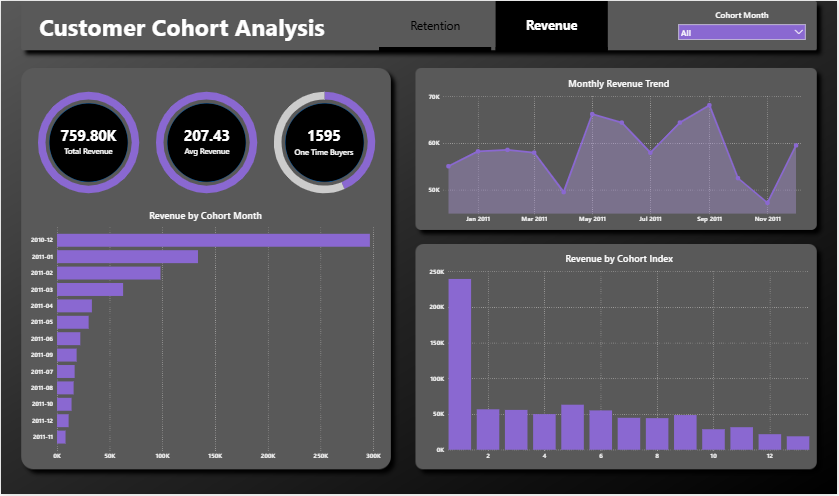

What the dashboard file says about the page in this screenshot:
{"tool":"powerbi","page":{"name":"Revenue","canvas":[1900,1120],"ordinal":1},"visuals":[{"type":"pageNavigator","box":[859.5,0,521.4,112],"z":0,"group":"g1"},{"type":"shape","box":[108,231,180,180],"z":0},{"type":"pageNavigator","box":[859.5,104.8,521.4,11.9],"z":1000,"group":"g1"},{"type":"shape","box":[377,232,180,180],"z":1000},{"type":"shape","box":[645,231,180,180],"z":2000},{"type":"donutChart","title":"Repeat vs One-Time Customers","fields":{"Y":["cohort_index_table.Total Revenue"]},"box":[19.5,172.6,357.1,298],"z":3000},{"type":"donutChart","title":"Repeat vs One-Time Customers","fields":{"Y":["cohort_index_table.Avg Revenue per Customer"]},"box":[287.5,172.6,357.1,298],"z":4000},{"type":"donutChart","title":"Repeat vs One-Time Customers","fields":{"Y":["cohort_index_table.One Time Customers","cohort_index_table.Repeat Customers"]},"box":[556.5,172.6,357.1,298],"z":5000},{"type":"card","fields":{"Values":["cohort_index_table.Total Revenue"]},"box":[108.8,259,178.6,114.3],"z":6000},{"type":"card","fields":{"Values":["cohort_index_table.Avg Revenue per Customer"]},"box":[377.8,259,181,114.3],"z":7000},{"type":"card","fields":{"Values":["cohort_index_table.One Time Customers"]},"box":[642.1,259,181,116.7],"z":8000},{"type":"barChart","title":"Revenue by Cohort Month","fields":{"Category":["cohort_index_table.CohortMonthFormatted"],"Y":["cohort_index_table.Total Revenue"]},"box":[60.3,467.9,807,586],"z":9000},{"type":"lineChart","title":"Monthly Revenue Trend","fields":{"Category":["cohort_index_table.OrderMonth.Variation.Date Hierarchy.Year","cohort_index_table.OrderMonth.Variation.Date Hierarchy.Month"],"Y":["cohort_index_table.Total Revenue"]},"box":[965.4,167.6,876.1,348],"z":10000},{"type":"columnChart","title":"Revenue by Cohort Index","fields":{"Category":["cohort_index_table.CohortIndex"],"Y":["cohort_index_table.Total Revenue"]},"box":[967.6,565.4,873.9,488],"z":11000},{"type":"slicer","title":"Cohort Month","fields":{"Values":["cohort_index_table.CohortMonthFormatted"]},"box":[1530,17.6,309.3,86],"z":12000},{"type":"textbox","box":[81,16.7,671.4,102.4],"z":13000},{"type":"group","id":"g1","title":"Group 1","box":[859.5,0,521.4,116.7],"z":14000}]}

Visuals, with their boxes in screenshot pixels (x1, y1, x2, y2), scaled from the page's 1900x1120 canvas onto the 839x496 screenshot:
pageNavigator: l=380, t=0, r=610, b=50
shape: l=48, t=102, r=127, b=182
pageNavigator: l=380, t=46, r=610, b=52
shape: l=166, t=103, r=246, b=182
shape: l=285, t=102, r=364, b=182
"Repeat vs One-Time Customers" donutChart: l=9, t=76, r=166, b=208
"Repeat vs One-Time Customers" donutChart: l=127, t=76, r=285, b=208
"Repeat vs One-Time Customers" donutChart: l=246, t=76, r=403, b=208
card - cohort_index_table.Total Revenue: l=48, t=115, r=127, b=165
card - cohort_index_table.Avg Revenue per Customer: l=167, t=115, r=247, b=165
card - cohort_index_table.One Time Customers: l=284, t=115, r=363, b=166
"Revenue by Cohort Month" barChart: l=27, t=207, r=383, b=467
"Monthly Revenue Trend" lineChart: l=426, t=74, r=813, b=228
"Revenue by Cohort Index" columnChart: l=427, t=250, r=813, b=467
"Cohort Month" slicer: l=676, t=8, r=812, b=46
textbox: l=36, t=7, r=332, b=53
"Group 1" group: l=380, t=0, r=610, b=52
